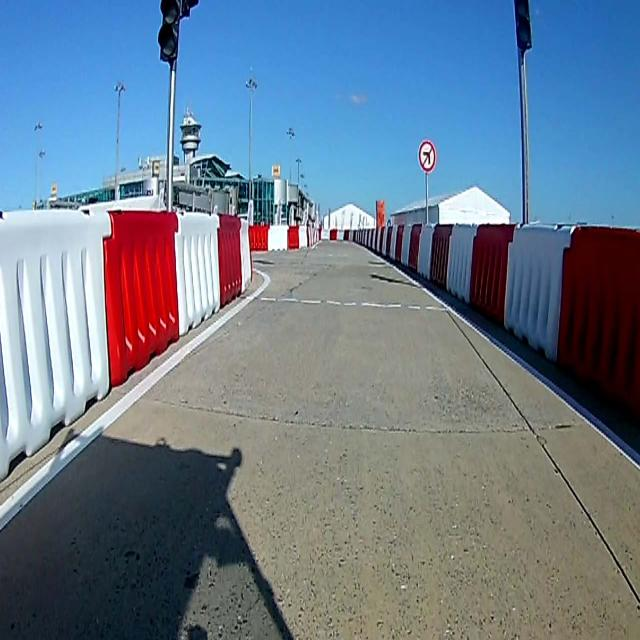soladonulmez: (418, 137, 436, 172)
